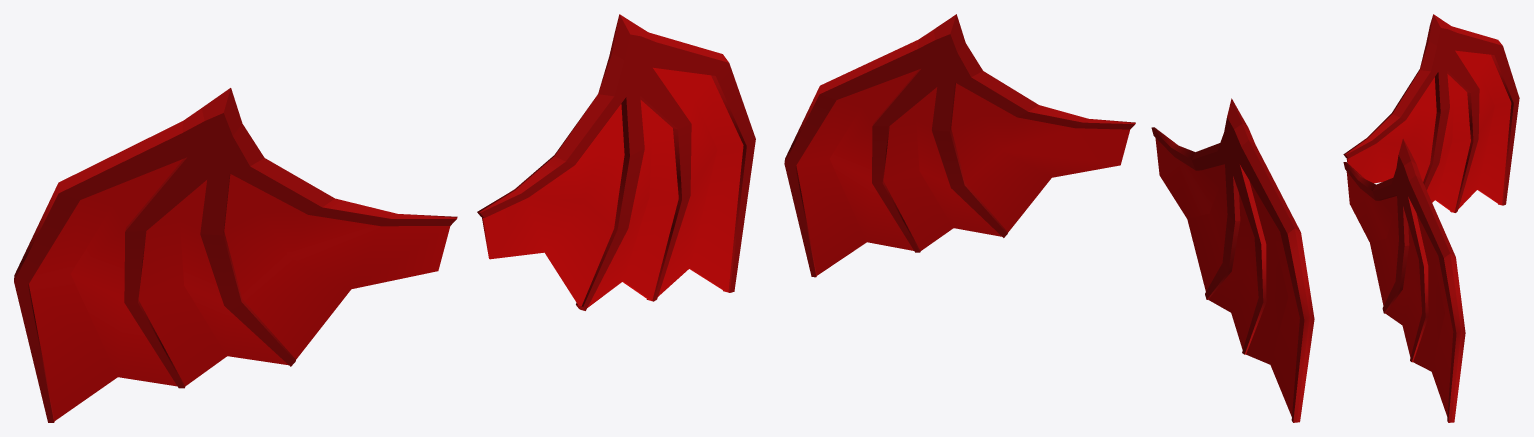
Rendered from wing_devil.fbx.
The picture shows the model from 3 angles, left to right: view 1: azimuth 30°, elevation 25°; view 2: azimuth 150°, elevation 25°; view 3: azimuth 270°, elevation 25°; orthographic projection. The views are drawn at different scales.
Parts seen in each view (by area): view 1: Mesh32; view 2: Mesh32; view 3: Mesh32.
Boxes of the visible parts, left/top/right/bottom form: Mesh32: left=14, top=14, right=755, bottom=422; Mesh32: left=784, top=14, right=1314, bottom=422; Mesh32: left=1343, top=14, right=1519, bottom=422.
Bounding box in the file's own units: 1.59 × 0.7322 × 0.4975.
